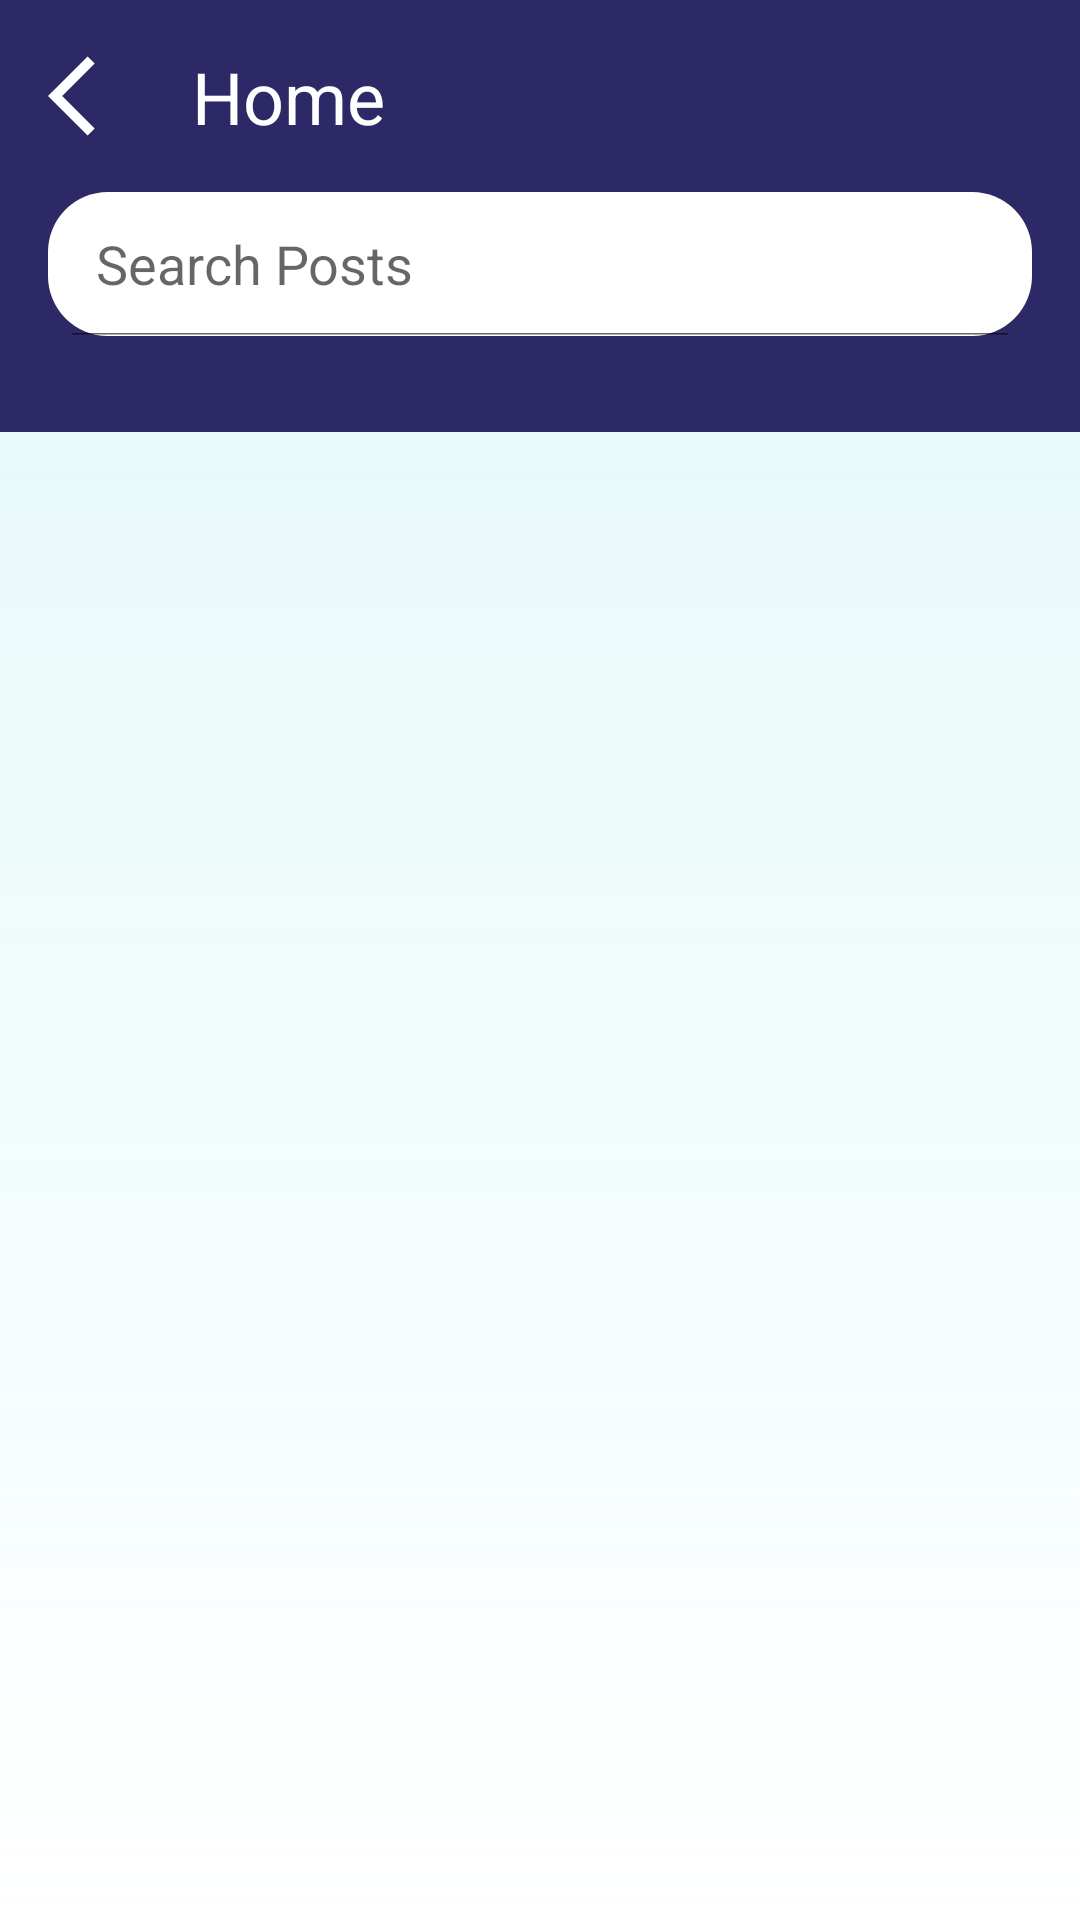

Where icons sit on this 1080w x 1920h app screen, as (x1, y1, x2, y2):
left arrow: (48, 56, 95, 136)
